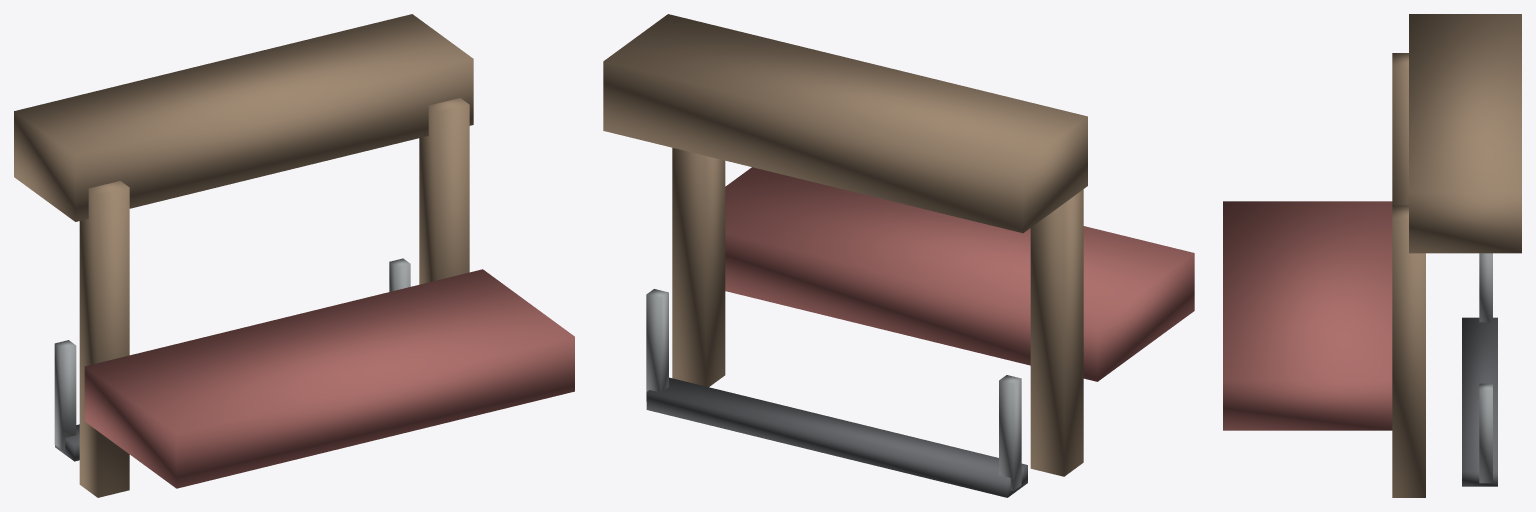
The model's file is prayer_kneeler__reinforced.glb.
The picture shows the model from 3 angles, left to right: view 1: azimuth 30°, elevation 25°; view 2: azimuth 150°, elevation 25°; view 3: azimuth 270°, elevation 25°; orthographic projection. The views are drawn at different scales.
Parts seen in each view (by area): view 1: world; view 2: world; view 3: world.
Boxes of the visible parts, left/top/right/bottom form: world: left=14, top=14, right=574, bottom=497; world: left=603, top=14, right=1194, bottom=497; world: left=1223, top=14, right=1521, bottom=497.
Bounding box in the file's own units: 0.7725 × 0.6273 × 0.5459.
